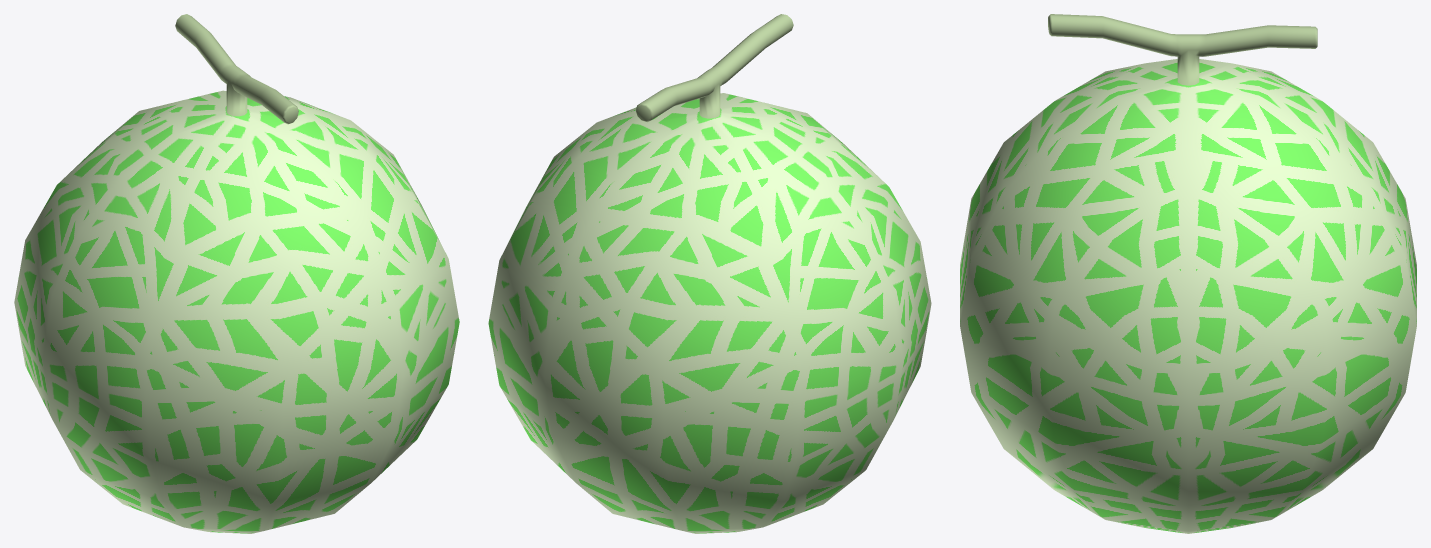
The model's file is meron.fbx.
3 renders of one model, left to right at view 1: azimuth 30°, elevation 25°; view 2: azimuth 150°, elevation 25°; view 3: azimuth 270°, elevation 25°, orthographic. The views are drawn at different scales.
Visible parts, largest first — view 1: polySurface13; view 2: polySurface13; view 3: polySurface13.
Part boxes in pixels (x1,y1,x2,y2): polySurface13: (14,14,459,533); polySurface13: (488,14,931,533); polySurface13: (960,14,1416,533).
Bounding box in the file's own units: 2 × 2.26 × 1.9.
1 material, 1 textured.
